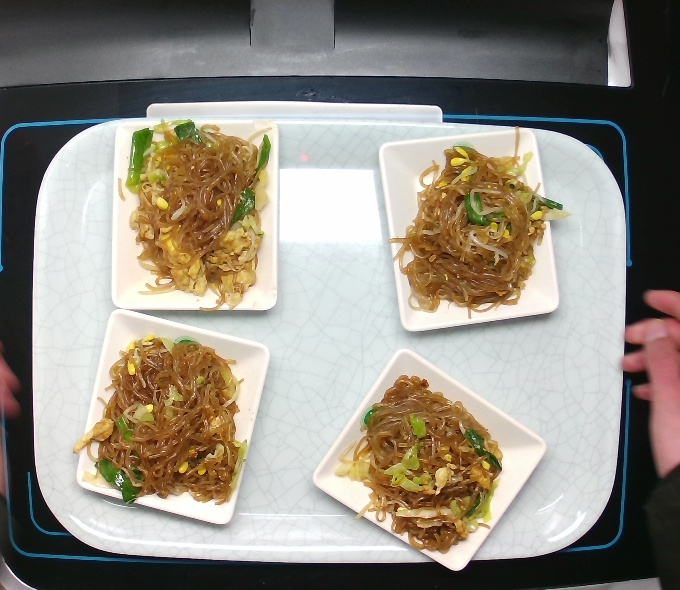wcq-FenSiChaoDan: (395, 136, 565, 312), (346, 368, 503, 554), (120, 116, 274, 302), (91, 338, 244, 510)
